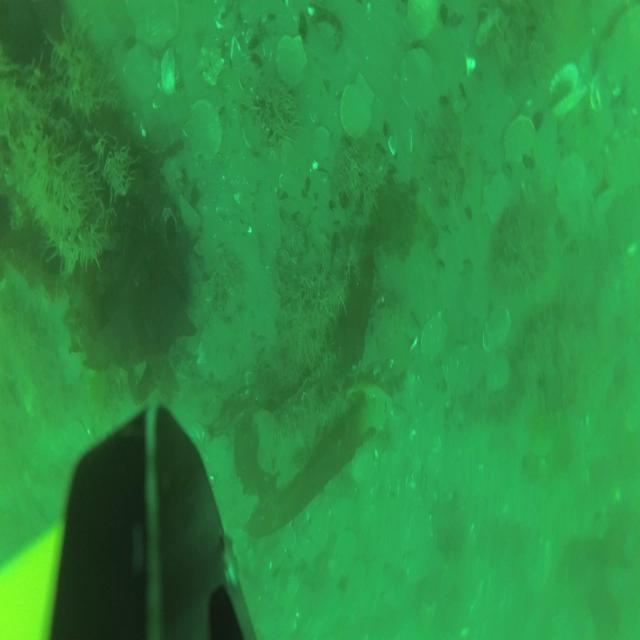scallop: (126, 1, 182, 48), (342, 76, 376, 137), (444, 343, 480, 397), (121, 48, 159, 97), (403, 51, 435, 108), (186, 102, 220, 155), (484, 173, 516, 226), (276, 36, 306, 88), (419, 311, 449, 359), (557, 154, 588, 200), (506, 112, 533, 164), (481, 307, 511, 349), (486, 351, 512, 395)
